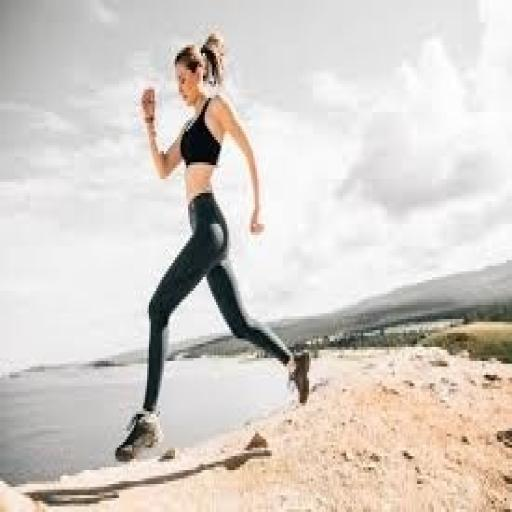running: (114, 31, 312, 464)
